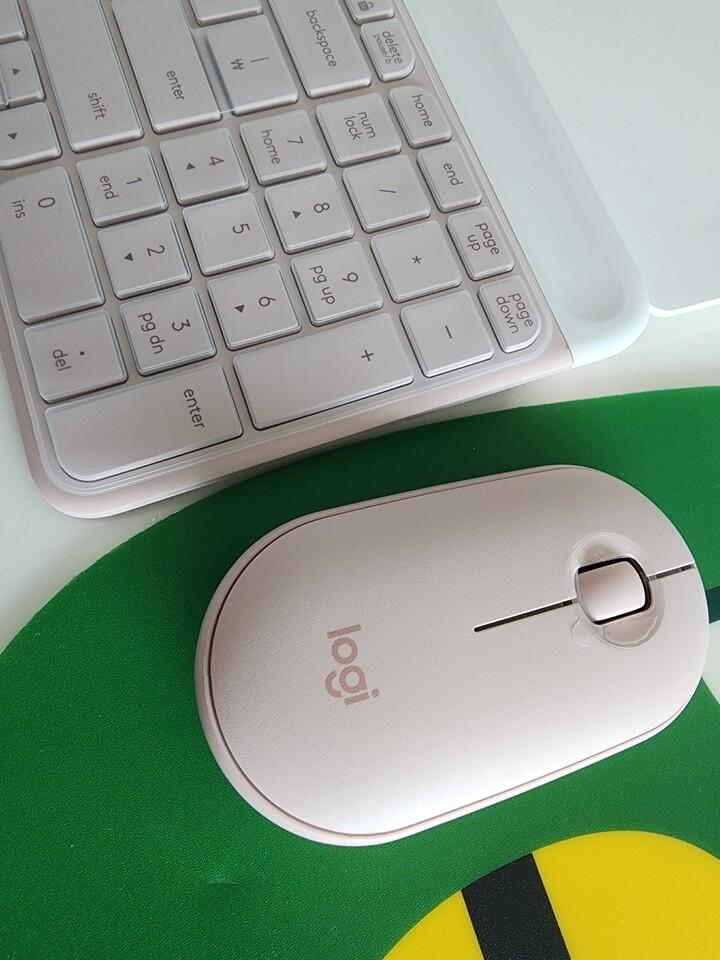keyboard: (0, 0, 576, 519)
mouse: (192, 461, 710, 847)
